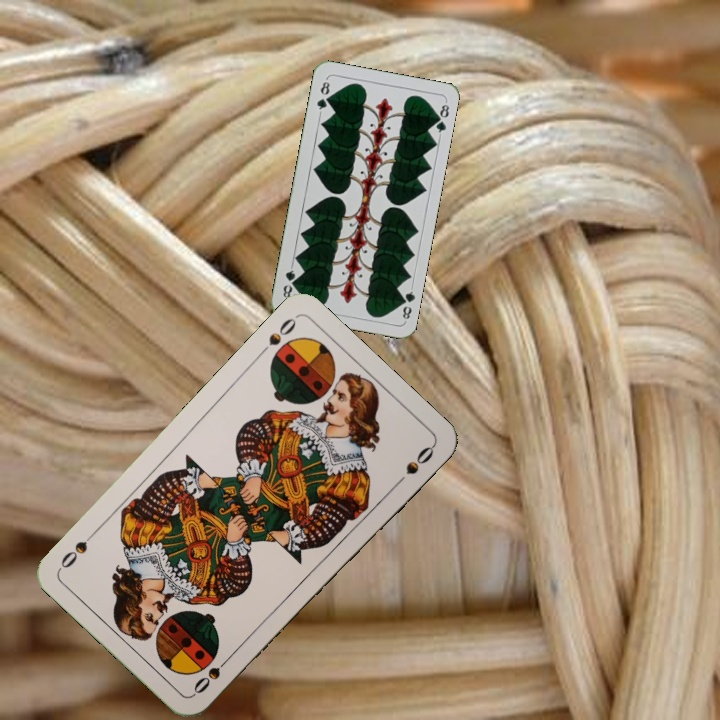G8: (396, 283, 418, 323), (313, 75, 332, 116)
SO: (189, 650, 235, 697), (254, 313, 299, 359)
